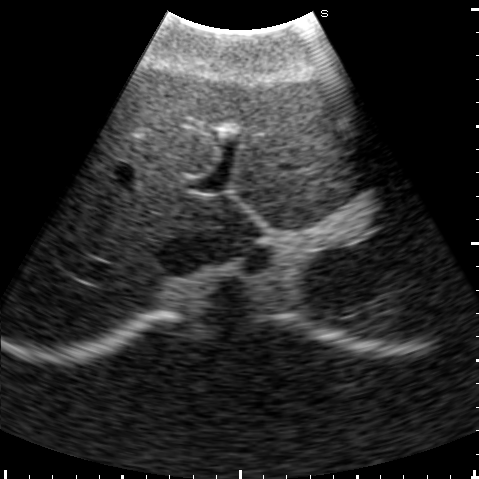IVC: (158, 232, 213, 276)
S1: (207, 198, 263, 263)
S2: (240, 151, 394, 230)
S3: (231, 72, 386, 194)
Tumor: (337, 118, 353, 134)
